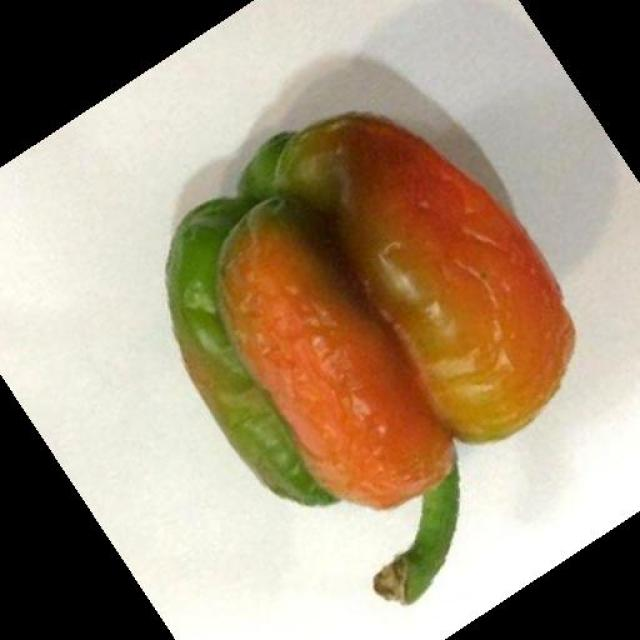Stale_Capsicum: (184, 134, 534, 598)
